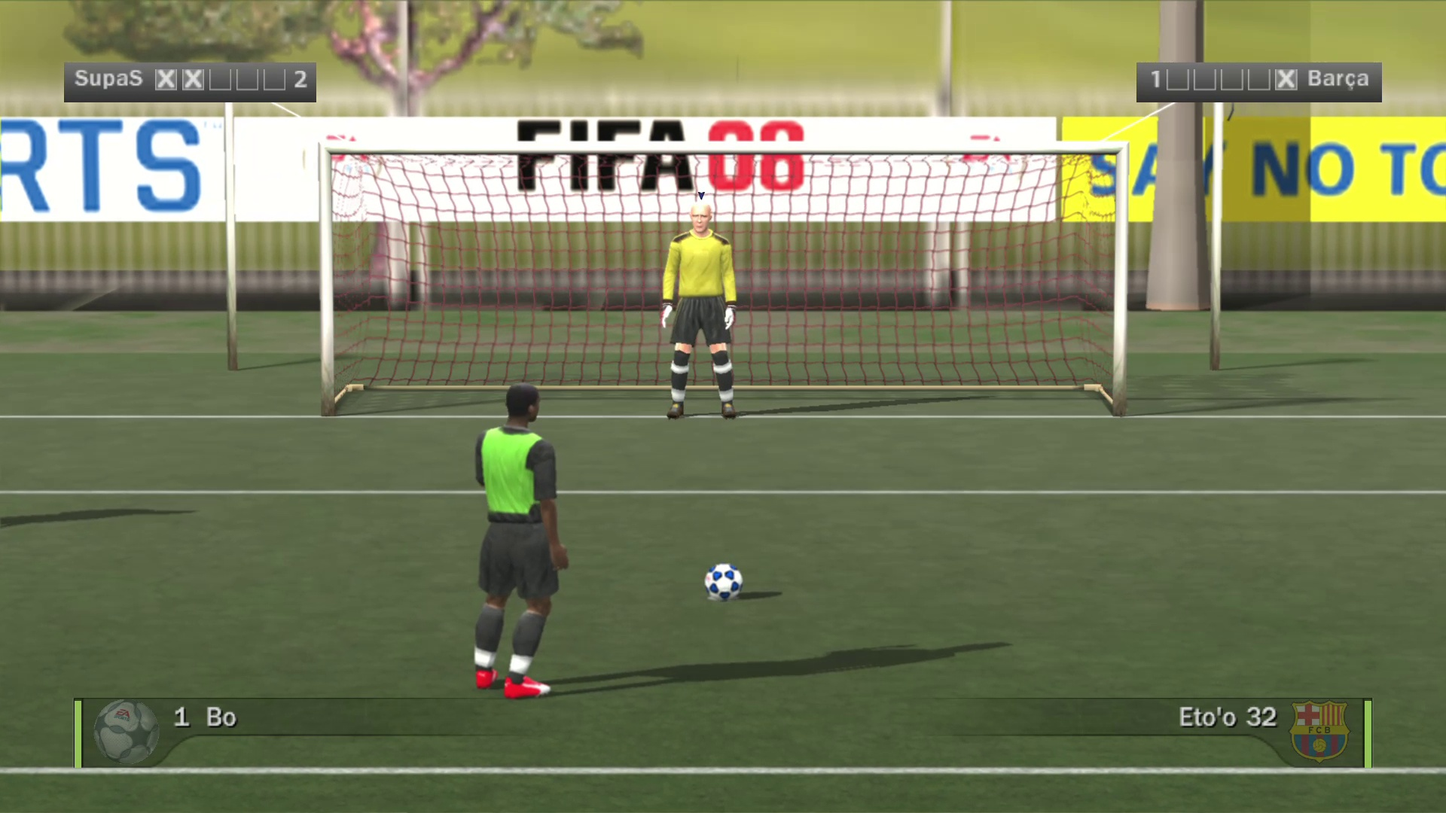ball: (681, 546, 724, 582)
goal_post: (0, 25, 724, 284)
keeper: (623, 91, 703, 313)
kicker: (434, 206, 519, 537)
